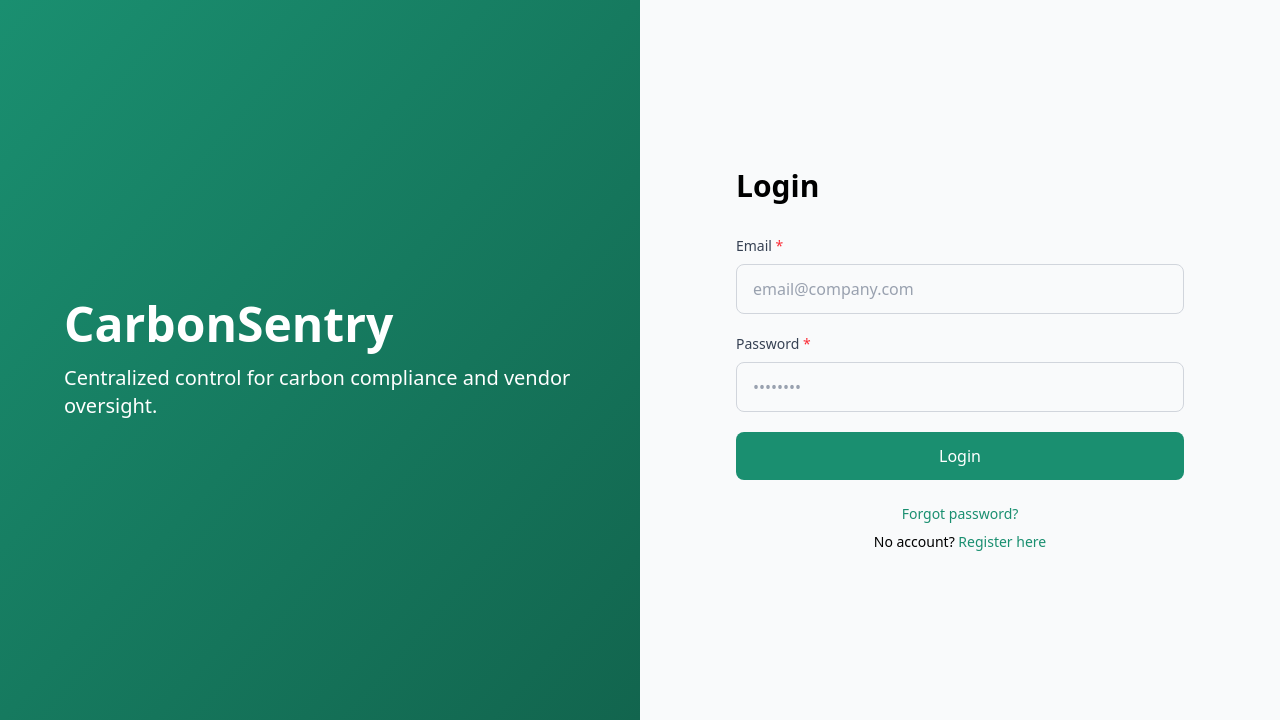
Scenario: Login page › shows 'Logging in…' while submitting
This screenshot has width=1280, height=720.
Step 1. Type "a@b.com" into the field with placeholder "email@company.com" → (960, 289), box [736,264,1184,314]
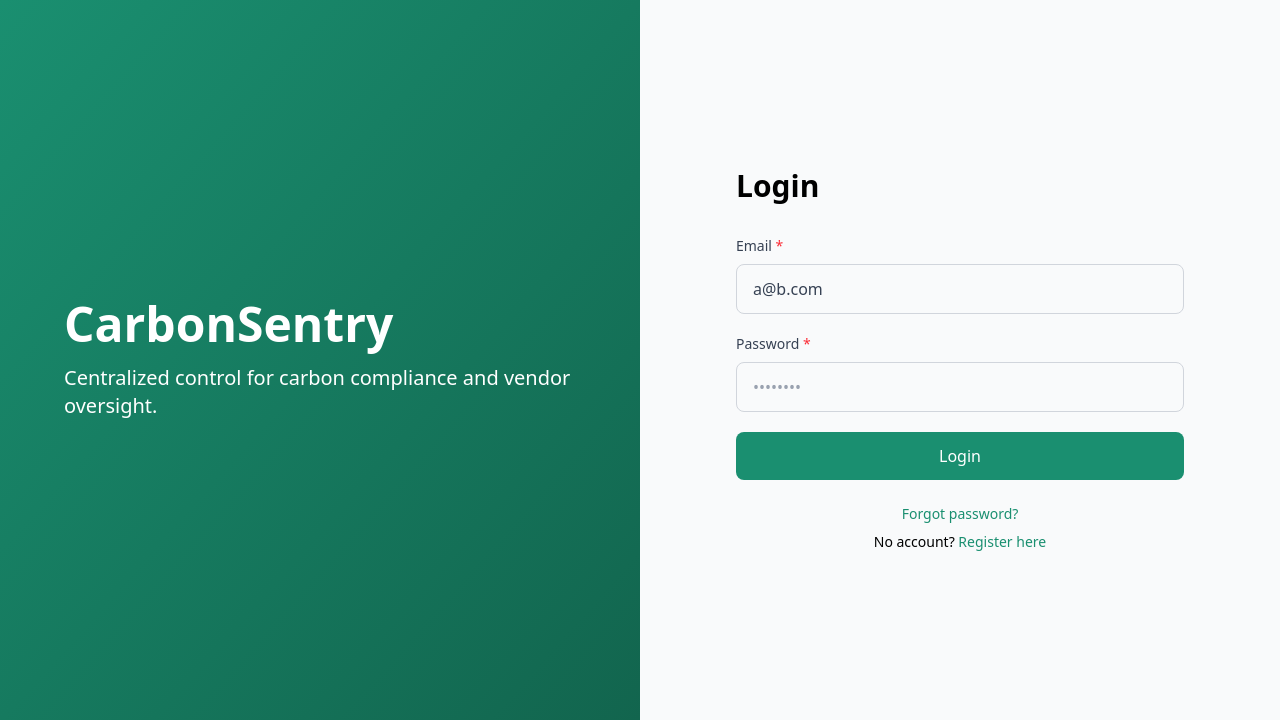
Step 2. Type "pw" into the password field with placeholder "••••••••" → (960, 387), box [736,362,1184,412]
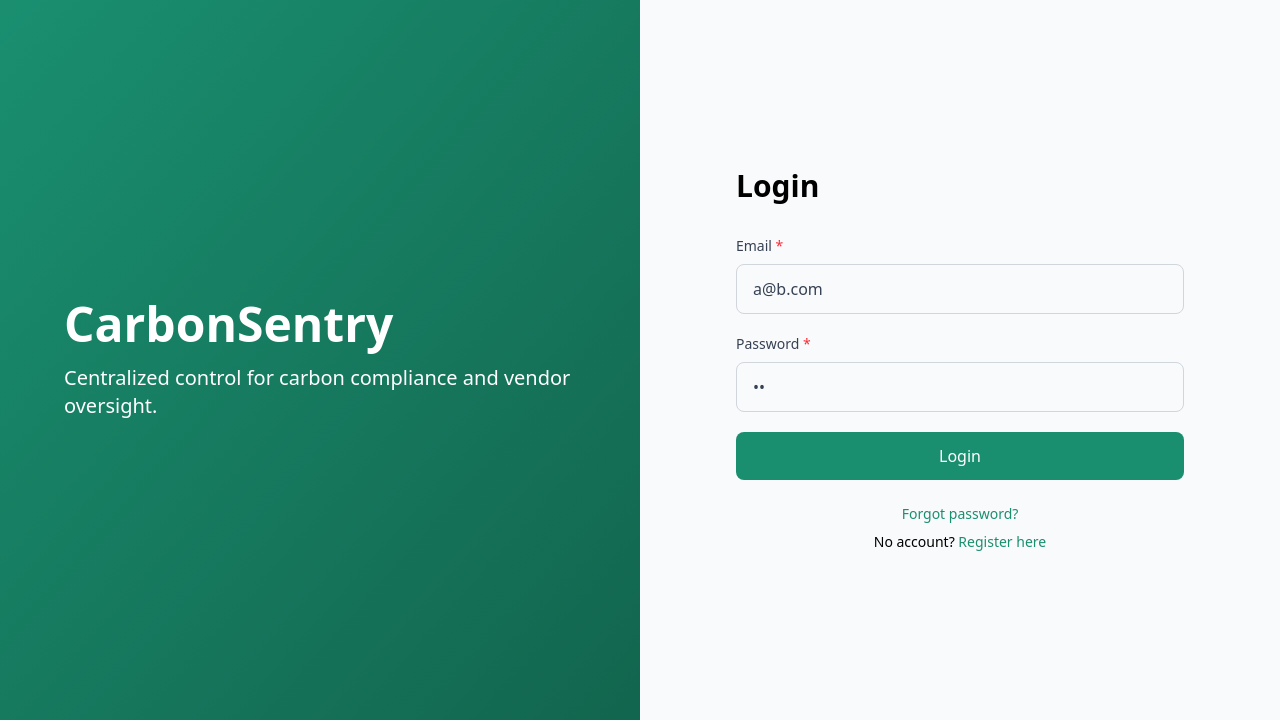
Step 3. Click the button "Login" → click(960, 456), box [736,432,1184,480]
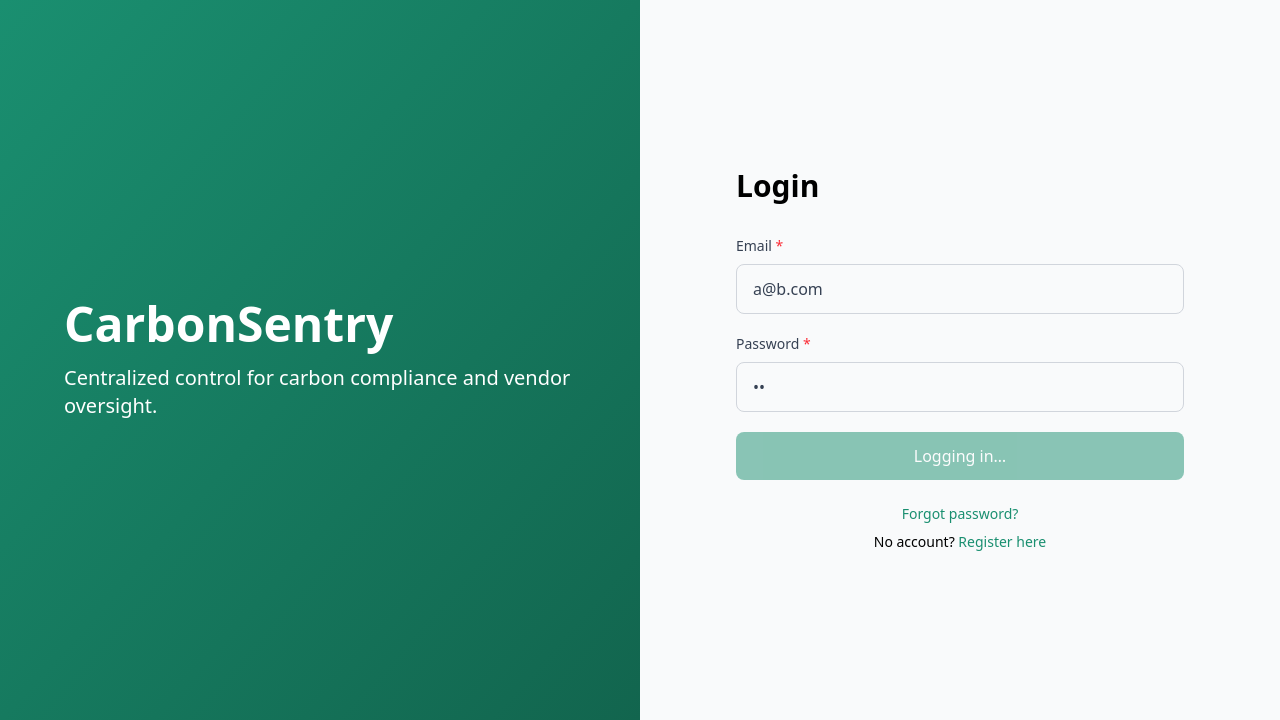
Expected: the button "Logging in…" is shown, [736,432,1184,480]
